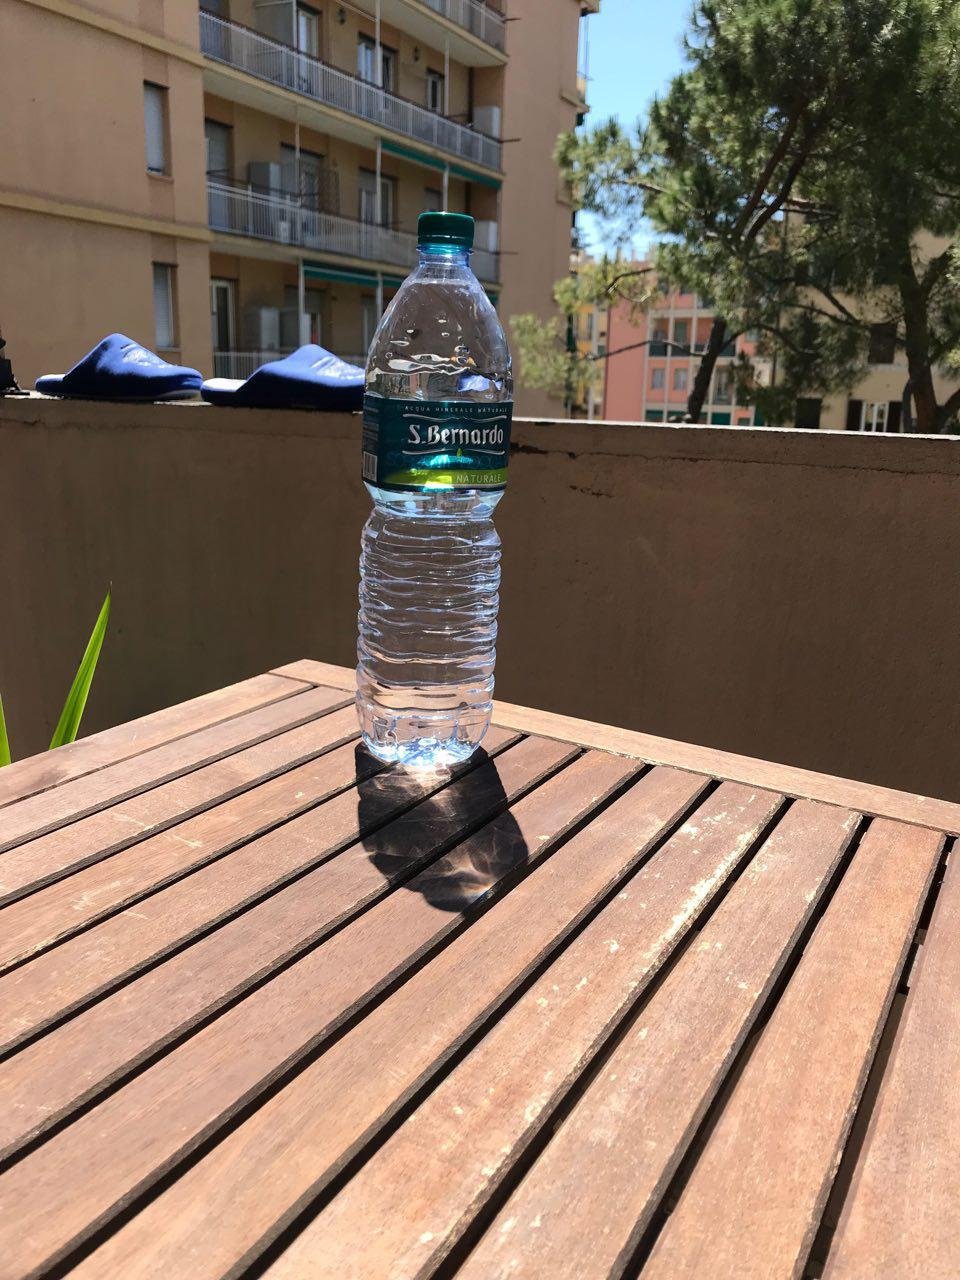san_bernardo: (355, 212, 513, 769)
